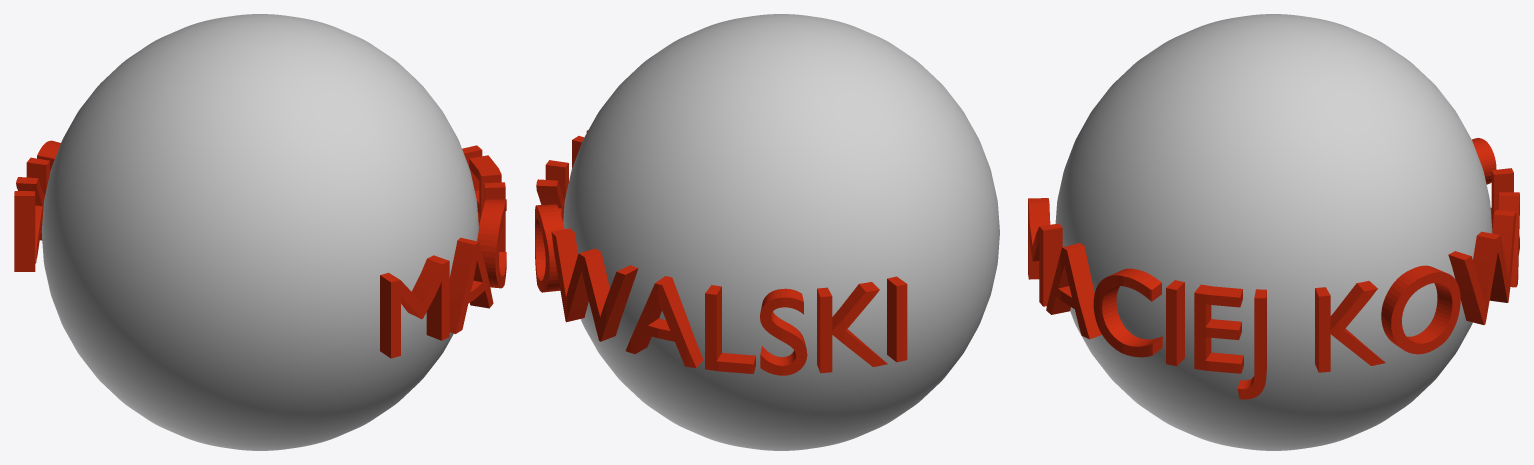
File: globe.obj
3 views of the same model, side by side, from view 1: azimuth 30°, elevation 25°; view 2: azimuth 150°, elevation 25°; view 3: azimuth 270°, elevation 25° (orthographic).
Visible parts, largest first — view 1: Sphere, Text; view 2: Sphere, Text; view 3: Sphere, Text.
Part boxes in pixels (<box>): Sphere: <box>41,14,478,450</box>; Text: <box>14,140,506,358</box>; Sphere: <box>563,14,999,450</box>; Text: <box>535,130,907,375</box>; Sphere: <box>1055,14,1492,450</box>; Text: <box>1028,138,1519,399</box>.
Bounding box in the file's own units: 3.77 × 3.55 × 3.99.
